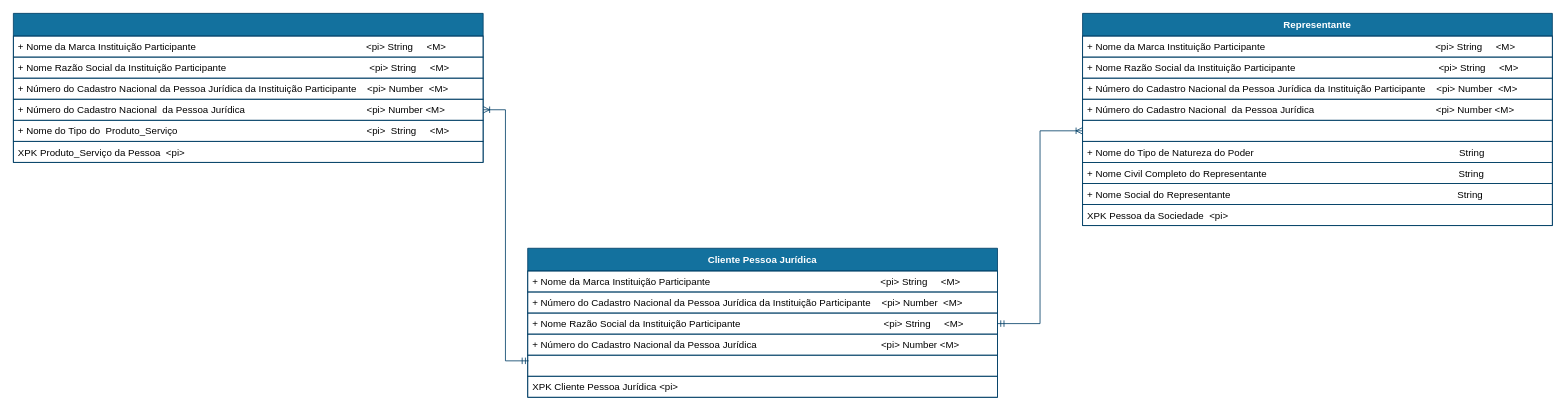
This 1566x411 diagram has some shape labels left out. The shapes that lost their labels are listed below. From the top down, each one's box as (x1, y1, x2, y2) in pixels, then its label:
(13, 13, 483, 162): Produto_Serviço do Cliente
(1082, 119, 1552, 141): + Cadastro da Pessoa Física do Representante String
(527, 354, 998, 376): + Número de Registro no Pais de Origem Number
